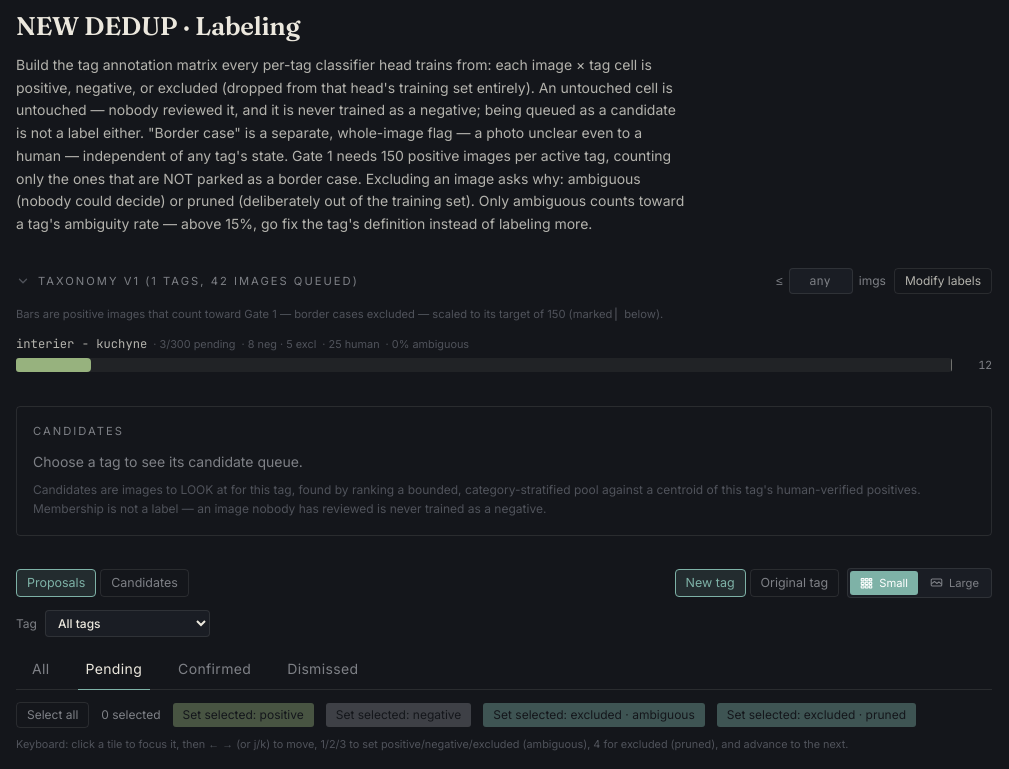
Test: <NewDedupLabeling> › reads out the work left, the work done, and when the queue was last topped up
The image size is (1009, 769).
Expected: the button "interier - kuchyne" is shown, top-left (16, 335), bottom-right (147, 353)
Select "interier - kuchyne (12)" in the dropdown labelled "Tag": {"x": 128, "y": 624} top-left (45, 610), bottom-right (210, 637)
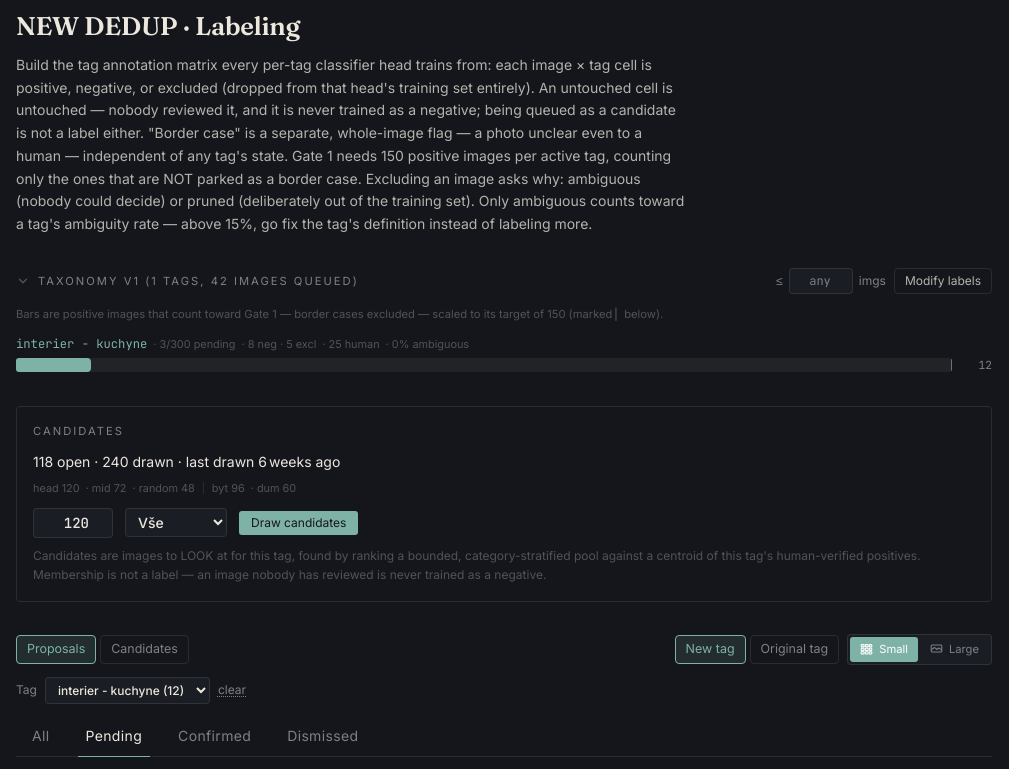
Expected: the button "Draw candidates" is shown, top-left (239, 511), bottom-right (358, 535)
Expected: the text "118 open · 240 drawn · last drawn 6 weeks ago" is shown, top-left (33, 453), bottom-right (340, 470)
